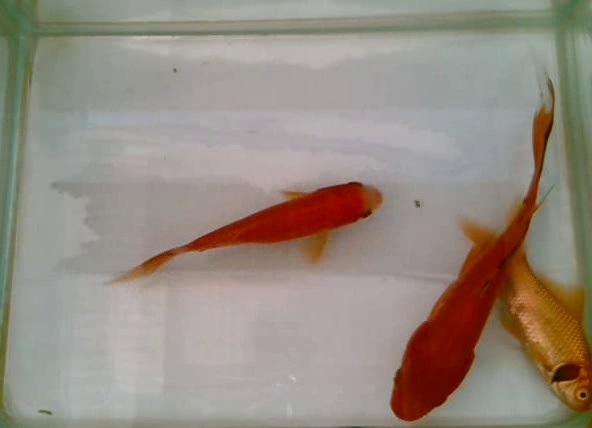alive_fish: (371, 41, 562, 426), (97, 174, 401, 292)
dead_fish: (456, 205, 592, 416)
